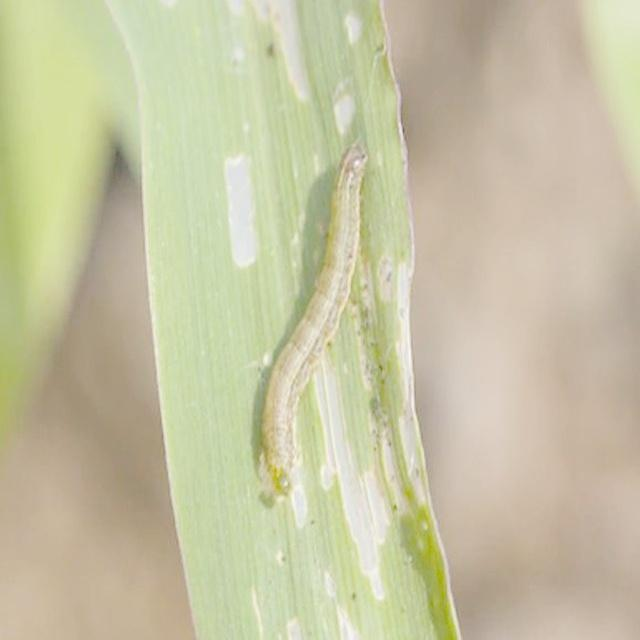gusano_cogollero: (256, 147, 366, 495)
